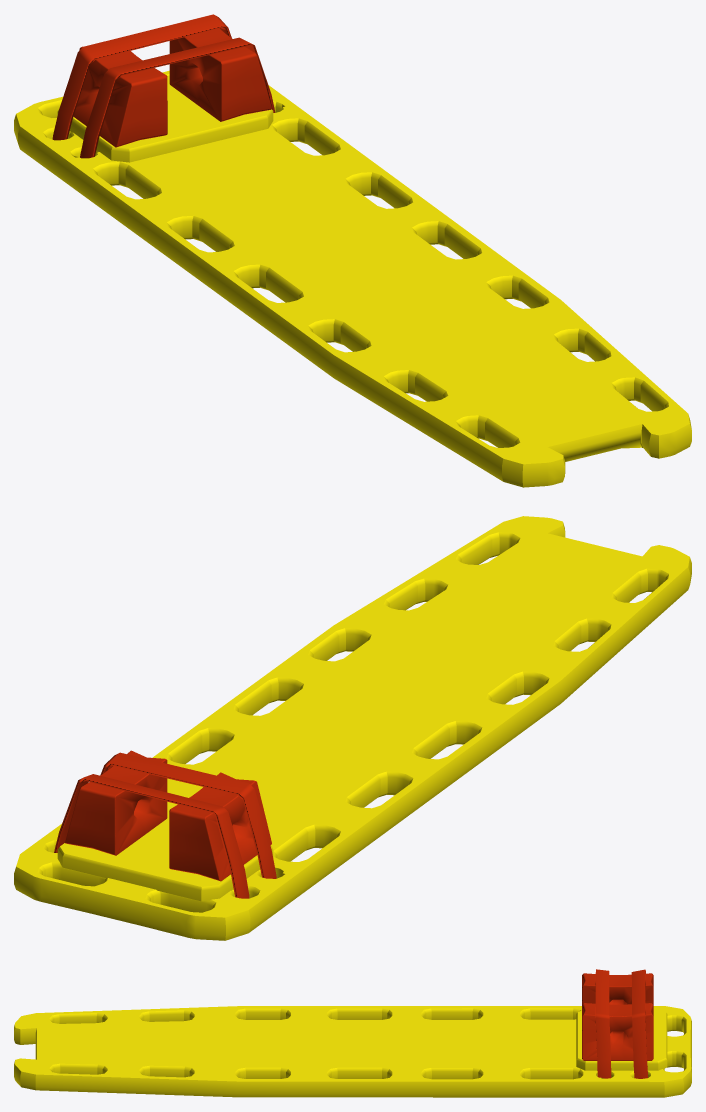
File: Poly(3) Device.fbx
3 views of the same model, one above another, from view 1: azimuth 30°, elevation 25°; view 2: azimuth 150°, elevation 25°; view 3: azimuth 270°, elevation 25° (orthographic). The views are drawn at different scales.
Parts seen in each view (by area): view 1: pCube1, pCube4, pCube3, pCube2, pCube6, pCube5; view 2: pCube1, pCube4, pCube2, pCube3, pCube5, pCube6; view 3: pCube1, pCube4, pCube2, pCube5, pCube6, pCube3.
Part boxes in pixels (box(x1,y1,x2,y2)): pCube1: box(14, 70, 691, 487); pCube4: box(169, 28, 271, 121); pCube3: box(73, 46, 167, 147); pCube2: box(57, 75, 273, 162); pCube6: box(52, 14, 231, 140); pCube5: box(80, 37, 275, 158); pCube1: box(14, 516, 691, 940); pCube4: box(65, 750, 167, 855); pCube2: box(57, 815, 273, 901); pCube3: box(169, 772, 271, 881); pCube5: box(100, 752, 276, 878); pCube6: box(54, 774, 249, 898); pCube1: box(14, 1006, 691, 1097); pCube4: box(582, 1003, 653, 1060); pCube2: box(576, 1008, 667, 1070); pCube5: box(595, 969, 611, 1078); pCube6: box(631, 969, 648, 1078); pCube3: box(582, 973, 653, 1004).
Size of the model in its own units: 0.4854 by 0.2186 by 1.8.
